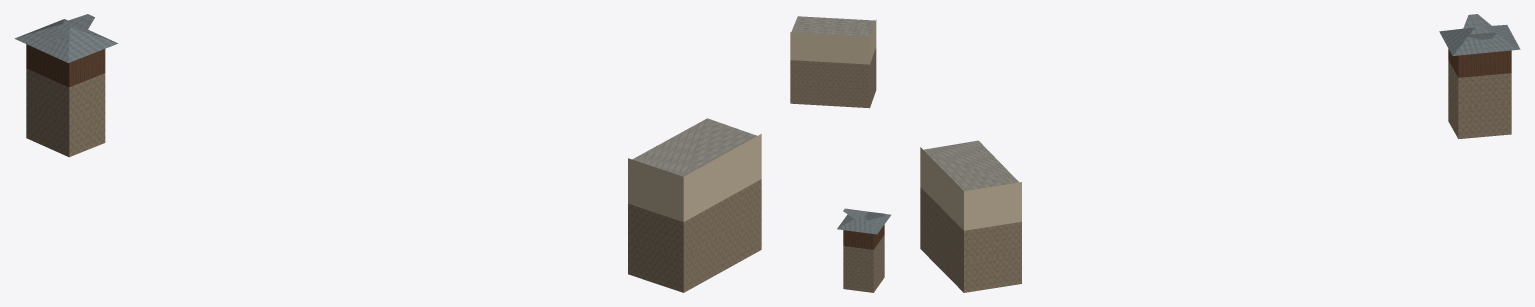
File: bld_c43_47_184.gltf
3 renders of one model, left to right at view 1: azimuth 30°, elevation 25°; view 2: azimuth 150°, elevation 25°; view 3: azimuth 270°, elevation 25°, orthographic. The views are drawn at different scales.
Visible parts, largest first — view 1: bld_c43_47_184; view 2: bld_c43_47_184; view 3: bld_c43_47_184.
Boxes of the visible parts, x1,y1,x2,y2 form: bld_c43_47_184: [14, 14, 761, 292]; bld_c43_47_184: [790, 16, 891, 292]; bld_c43_47_184: [920, 14, 1520, 292].
Bounding box in the file's own units: 29.54 × 7.98 × 39.91.
6 materials, 6 textured.
